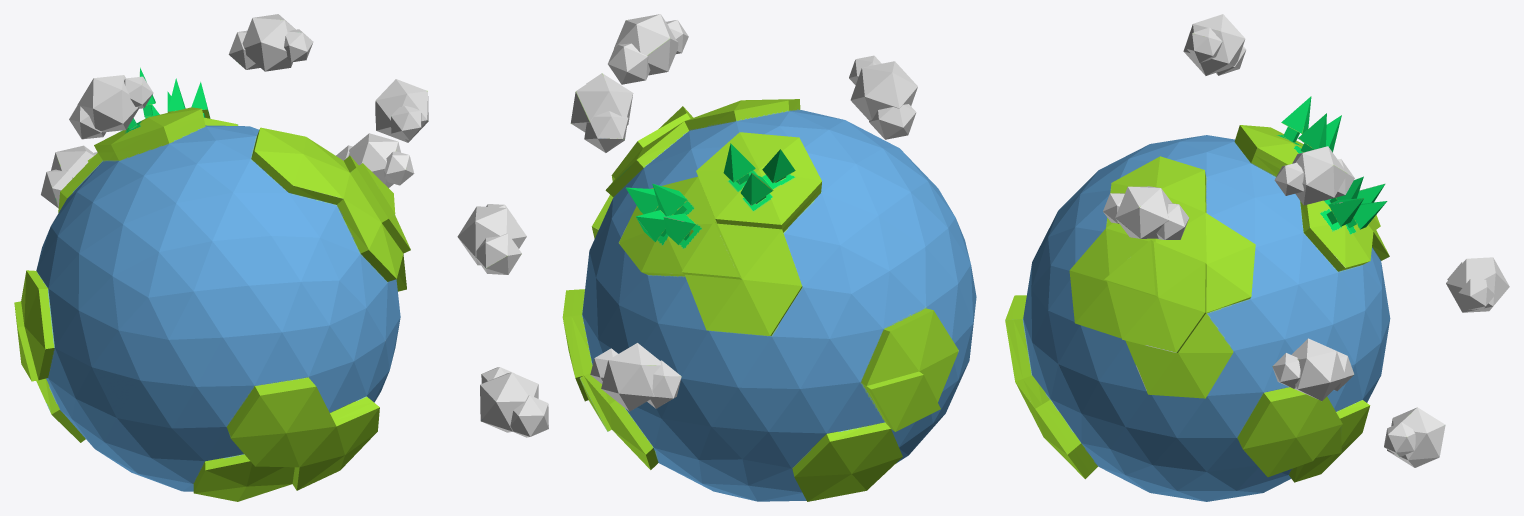
Rendered from EarthNormalOrigin.dae.
The picture shows the model from 3 angles, left to right: view 1: azimuth 30°, elevation 25°; view 2: azimuth 150°, elevation 25°; view 3: azimuth 270°, elevation 25°; orthographic projection. The views are drawn at different scales.
Parts seen in each view (by area): view 1: IcosphereActived-002; view 2: IcosphereActived-002; view 3: IcosphereActived-002.
Boxes of the visible parts, x1,y1,x2,y2 form: IcosphereActived-002: (14, 14, 428, 501); IcosphereActived-002: (457, 14, 976, 501); IcosphereActived-002: (1005, 14, 1509, 501).
Size of the model in its own units: 2.61 by 2.56 by 2.82.
1 material, 1 textured.
